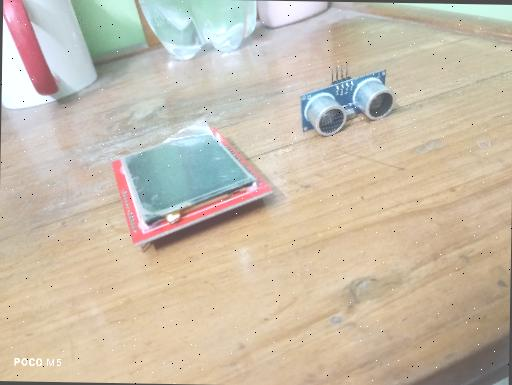Display: (108, 124, 274, 251)
sensor: (299, 62, 396, 137)
